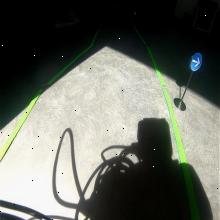right: (188, 51, 202, 70)
